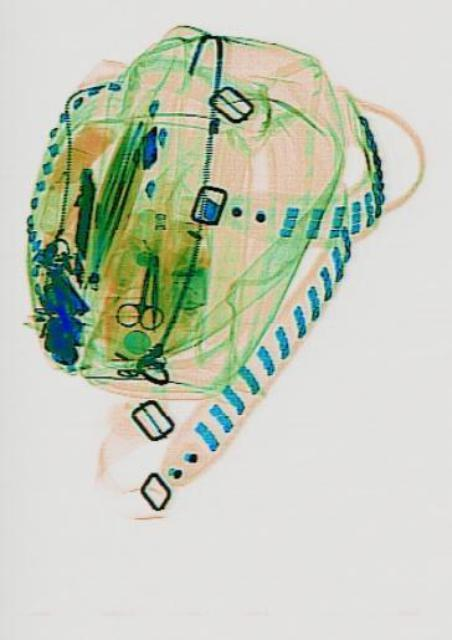Scissors: (113, 258, 170, 336)
